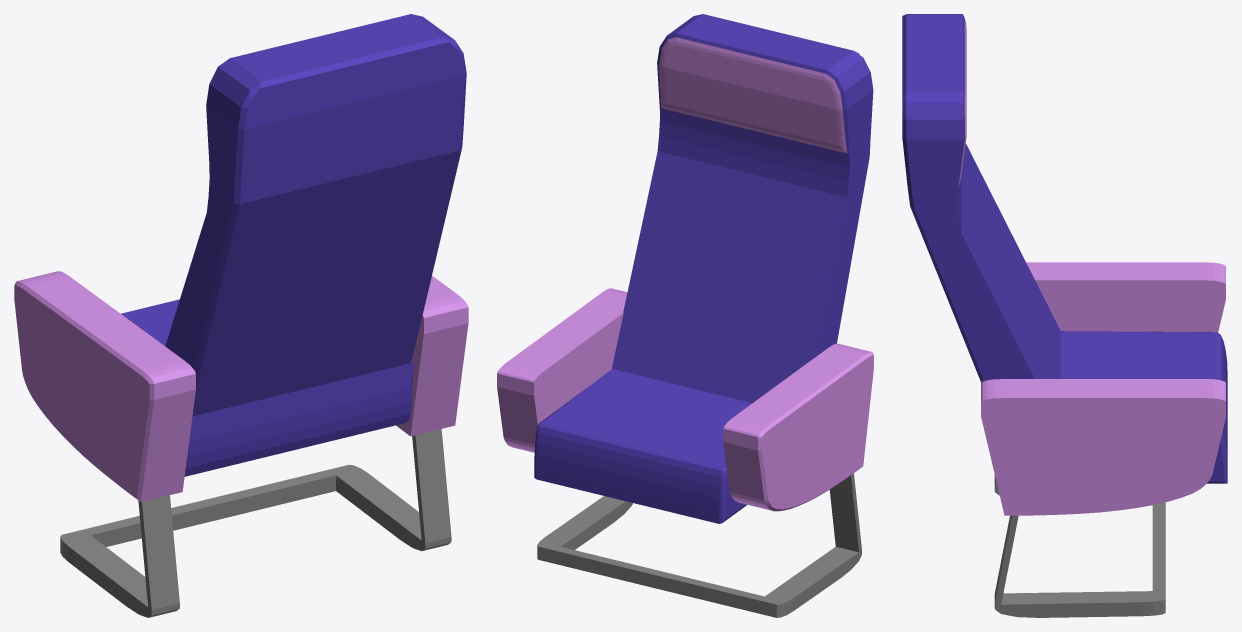
Rendered from Seat.fbx.
3 views of the same model, side by side, from view 1: azimuth 30°, elevation 25°; view 2: azimuth 150°, elevation 25°; view 3: azimuth 270°, elevation 25° (orthographic). The views are drawn at different scales.
Parts seen in each view (by area): view 1: Seat; view 2: Seat; view 3: Seat.
Part boxes in pixels (x1=…): Seat: x1=14, y1=14, x2=468, y2=617; Seat: x1=497, y1=14, x2=873, y2=617; Seat: x1=902, y1=14, x2=1227, y2=617.
Bounding box in the file's own units: 9.01 × 15.34 × 9.04.
